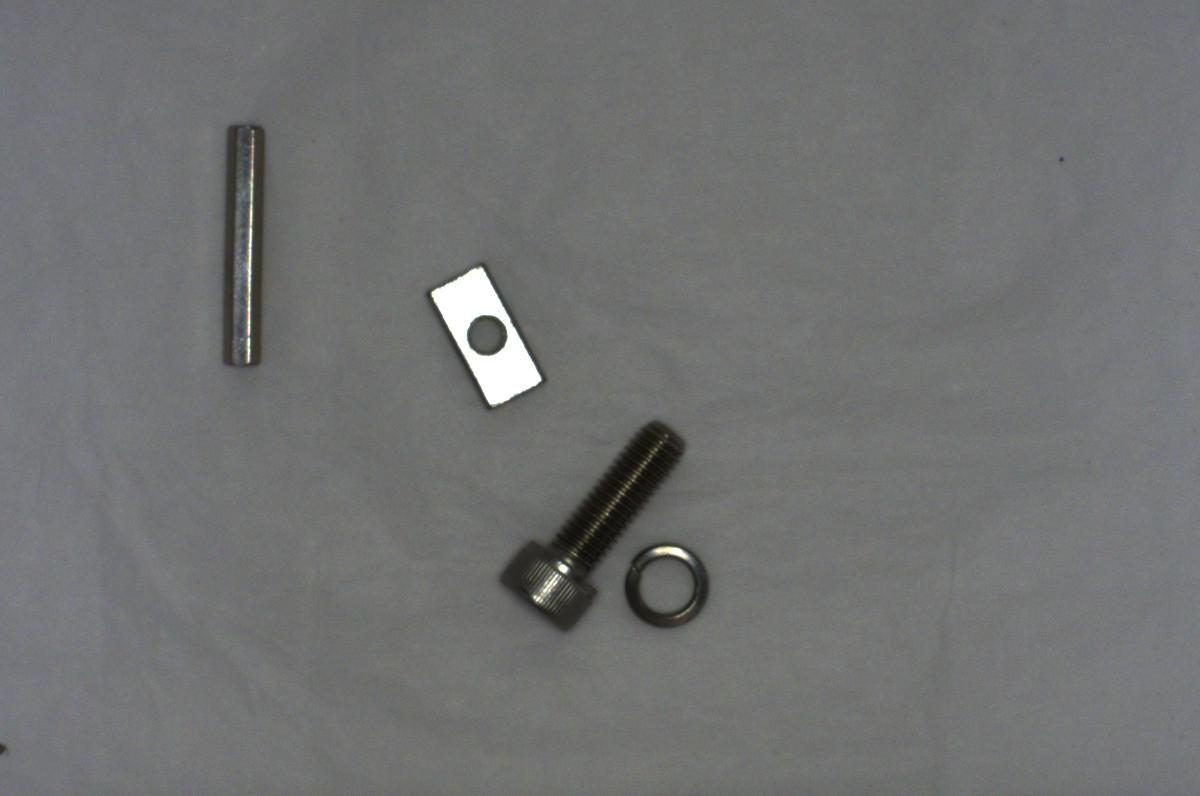Double hexagonal column: (218, 118, 270, 374)
Hexagon screw: (510, 409, 687, 636)
Rectangular nut: (424, 259, 547, 415)
Spring washer: (613, 542, 718, 630)
